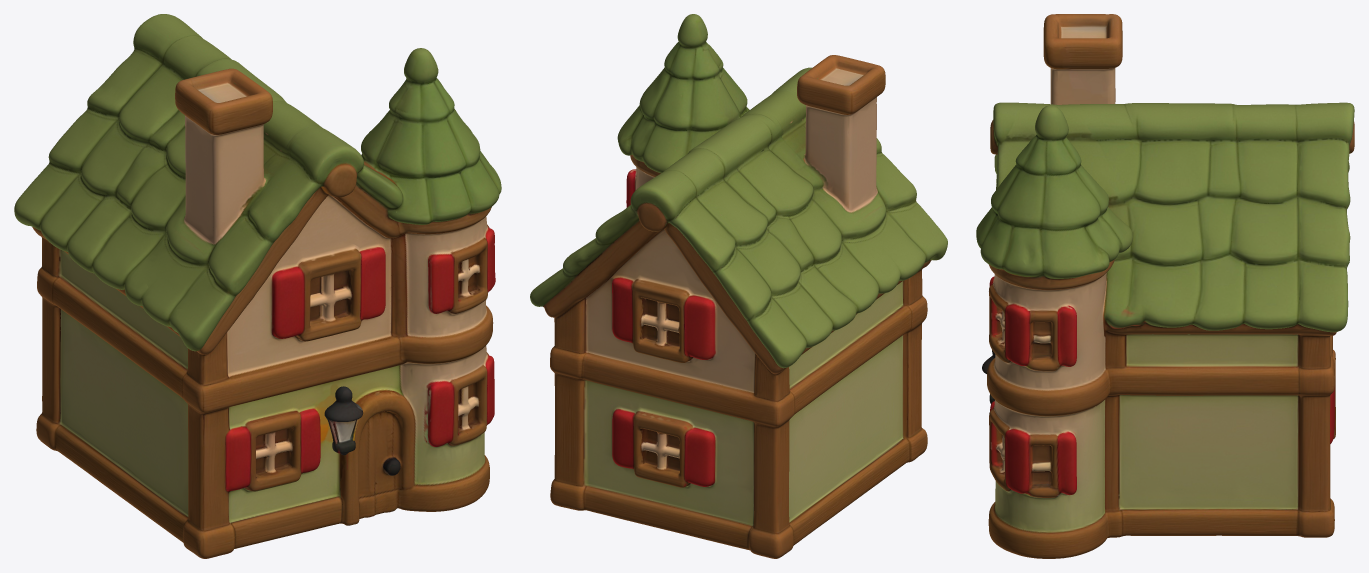
The model's file is ck_house_e.glb.
3 views of the same model, side by side, from view 1: azimuth 30°, elevation 25°; view 2: azimuth 150°, elevation 25°; view 3: azimuth 270°, elevation 25° (orthographic). The views are drawn at different scales.
Visible parts, largest first — view 1: ck_house_e; view 2: ck_house_e; view 3: ck_house_e.
Part boxes in pixels (x1=…): ck_house_e: x1=14, y1=14, x2=501, y2=558; ck_house_e: x1=530, y1=14, x2=947, y2=558; ck_house_e: x1=976, y1=14, x2=1354, y2=558.
Bounding box in the file's own units: 1.55 × 1.97 × 1.59.
Materials: 1 (1 with a texture image).
